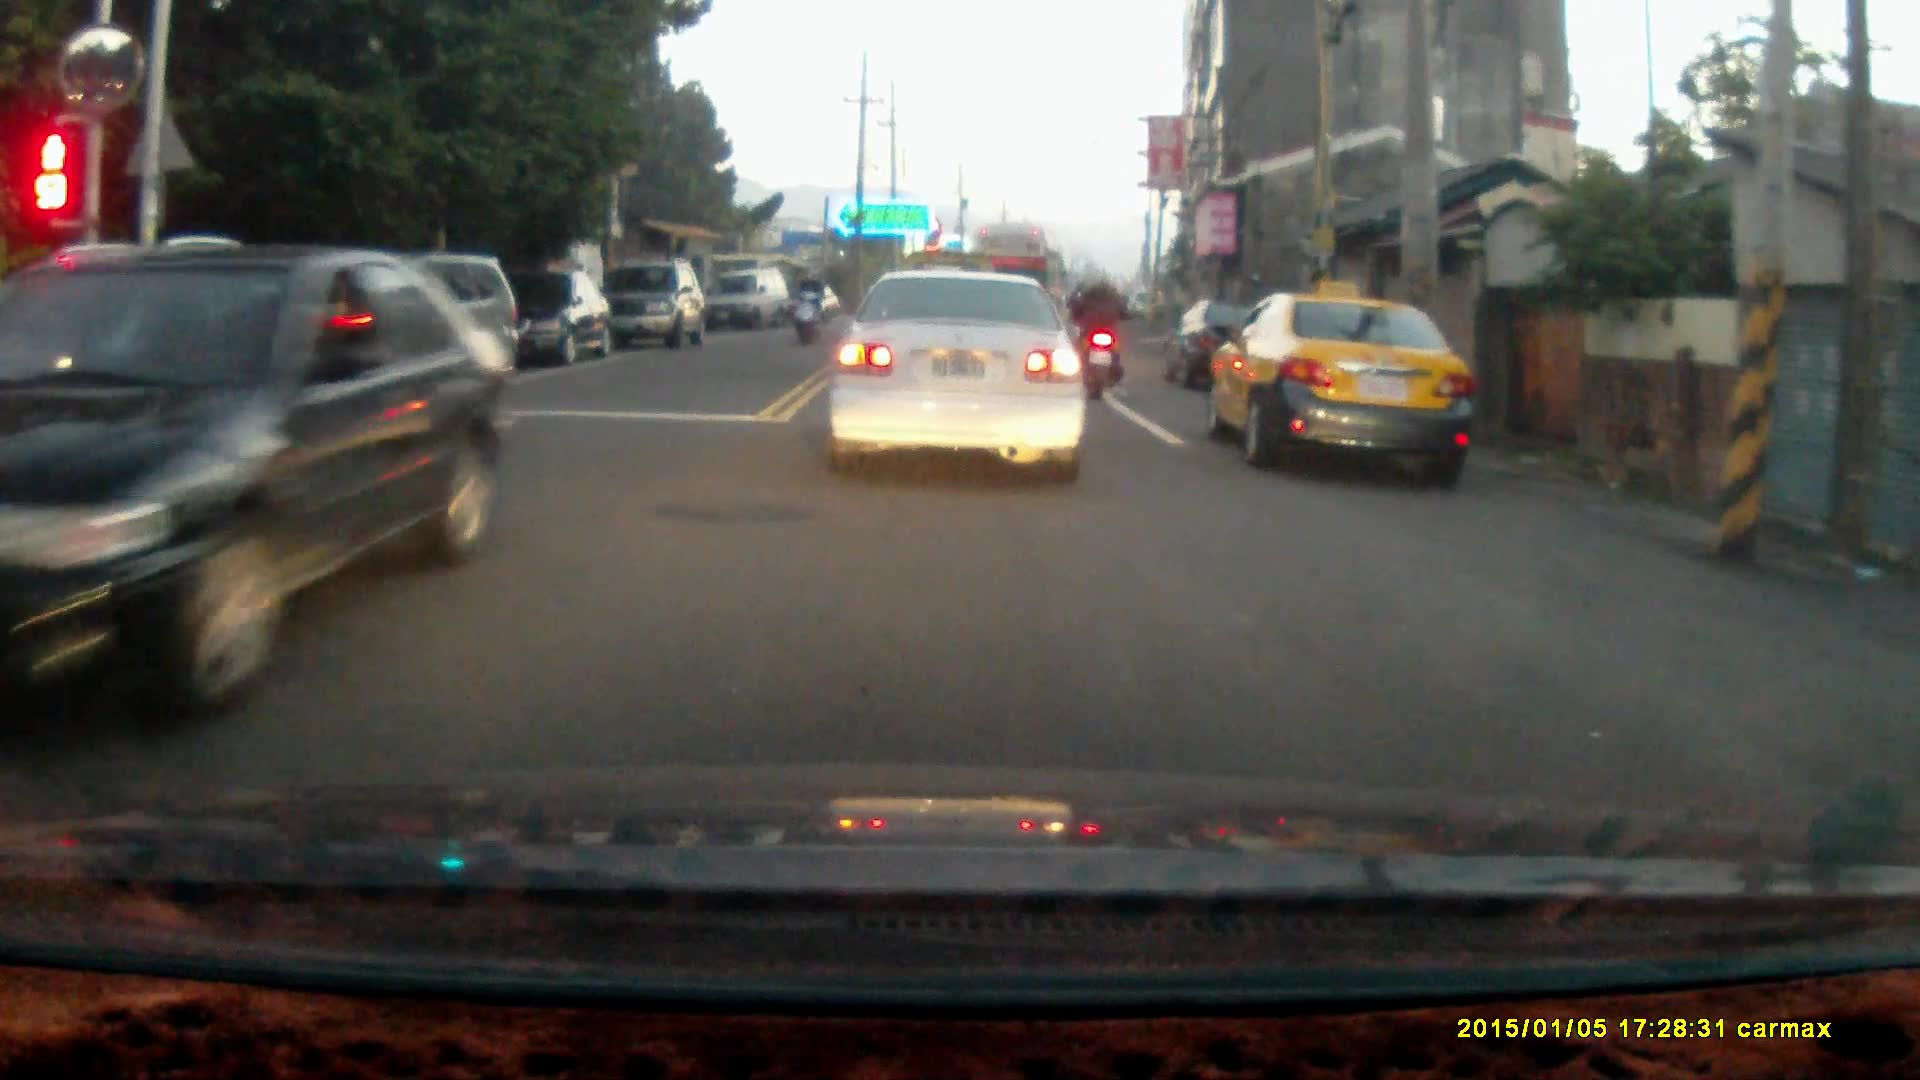rider: (1067, 265, 1127, 401), (788, 266, 823, 345)
vehicle: (1, 265, 527, 713), (823, 281, 1097, 497), (1213, 293, 1479, 485), (476, 269, 613, 370), (603, 264, 704, 359), (712, 270, 795, 334)
